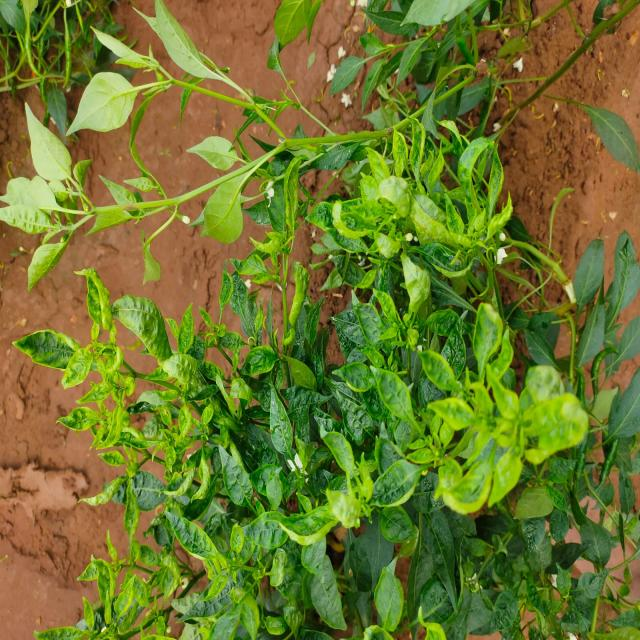Moko: (16, 280, 226, 482), (233, 362, 412, 562), (335, 119, 515, 284), (220, 122, 322, 390), (0, 521, 223, 640), (435, 344, 586, 504), (483, 531, 640, 640)
